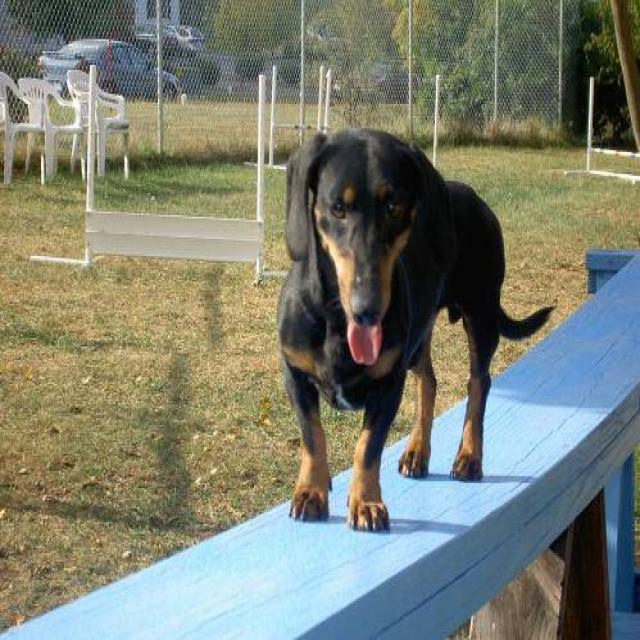Dog: (280, 130, 436, 368)
